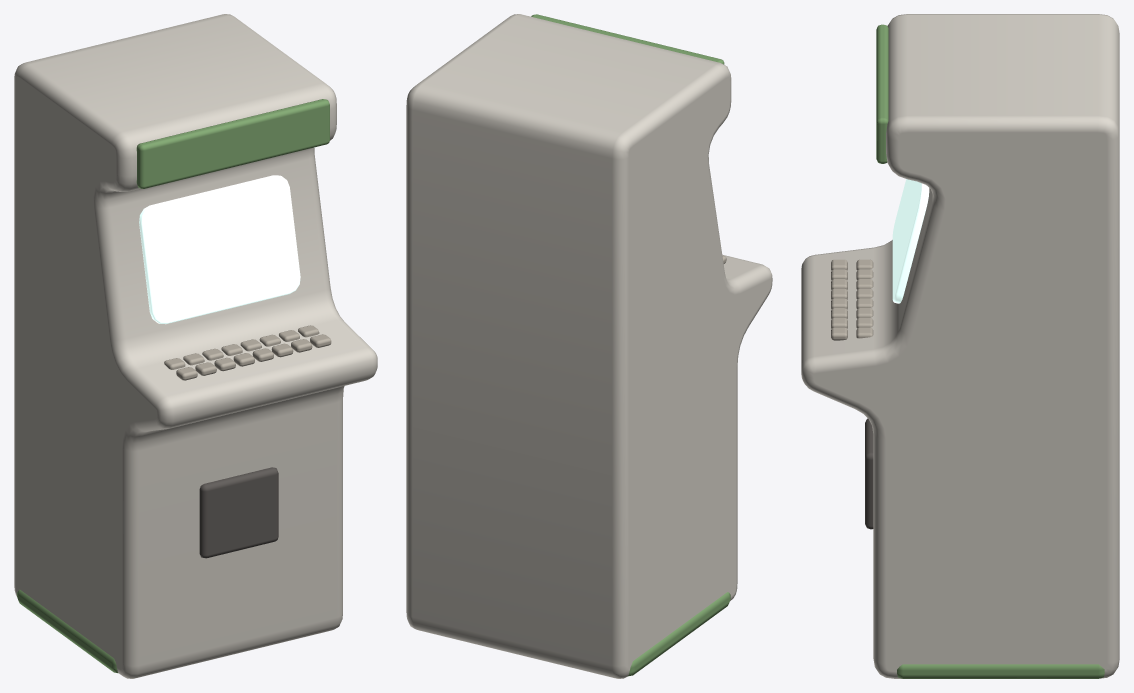
Rendered from arcade_cabinet_keys.glb.
The picture shows the model from 3 angles, left to right: view 1: azimuth 30°, elevation 25°; view 2: azimuth 150°, elevation 25°; view 3: azimuth 270°, elevation 25°; orthographic projection. The views are drawn at different scales.
Parts seen in each view (by area): view 1: arcade_cabinet_keys_mesh; view 2: arcade_cabinet_keys_mesh; view 3: arcade_cabinet_keys_mesh.
Boxes of the visible parts, bbox=[...] form: arcade_cabinet_keys_mesh: bbox=[14, 14, 377, 678]; arcade_cabinet_keys_mesh: bbox=[406, 14, 772, 678]; arcade_cabinet_keys_mesh: bbox=[801, 14, 1119, 678].
Size of the model in its own units: 0.632 by 1.46 by 0.75.
